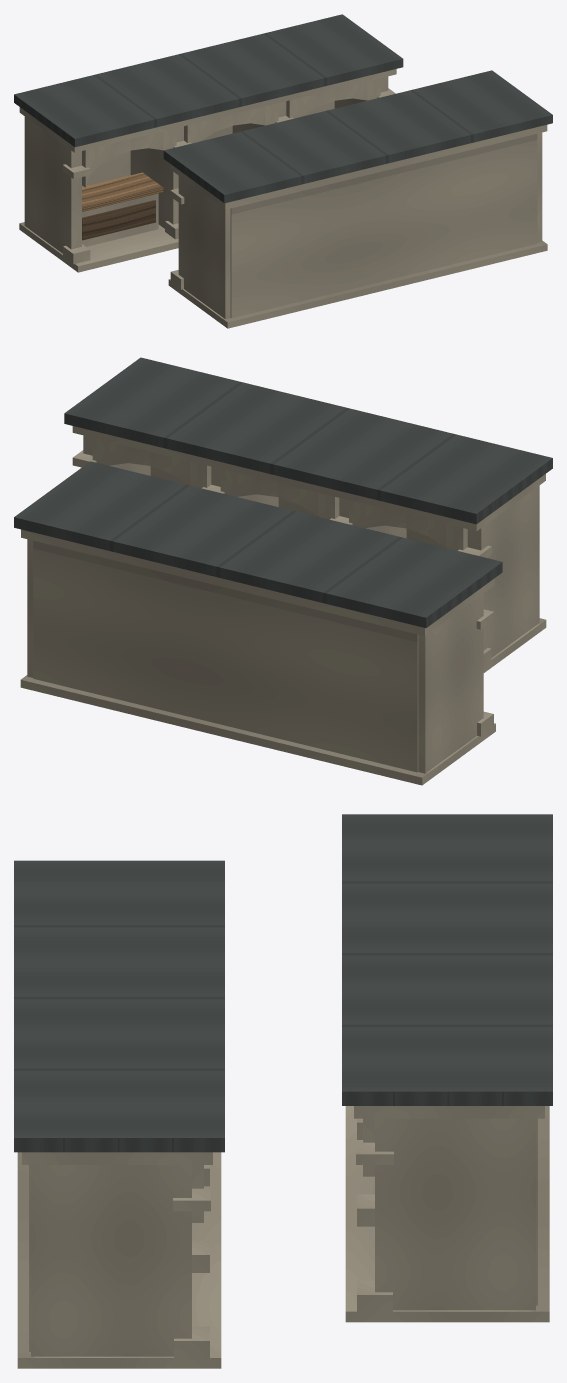
Rendered from yangon.glb.
The picture shows the model from 3 angles, top to bottom: view 1: azimuth 30°, elevation 25°; view 2: azimuth 150°, elevation 25°; view 3: azimuth 270°, elevation 25°; orthographic projection. The views are drawn at different scales.
Visible parts, largest first — view 1: yangon; view 2: yangon; view 3: yangon.
Boxes of the visible parts, left/top/right/bottom form: yangon: left=14, top=14, right=552, bottom=328; yangon: left=14, top=357, right=552, bottom=785; yangon: left=14, top=814, right=552, bottom=1368.
Bounding box in the file's own units: 7.4 × 2.5 × 5.21.
Materials: 1 (1 with a texture image).
